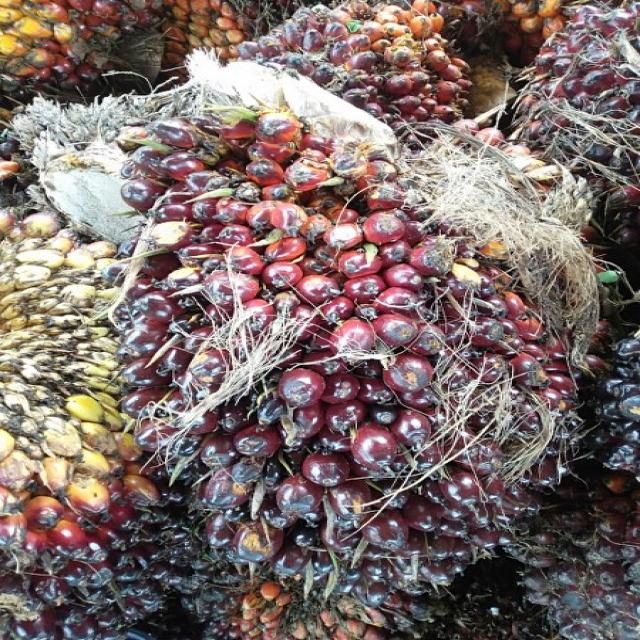fraksi 1: (108, 114, 584, 606)
